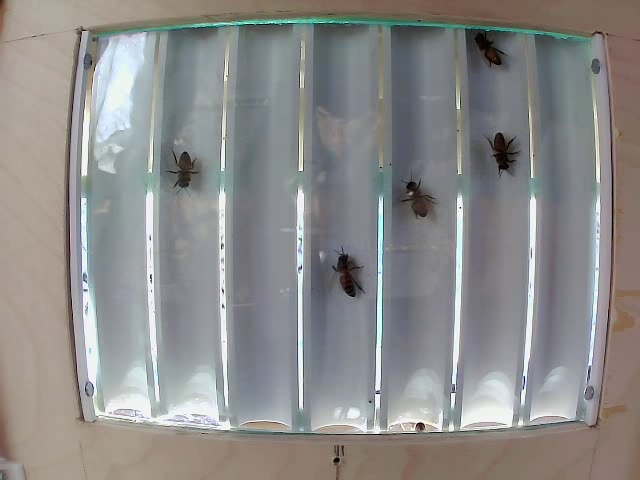bee: (391, 173, 432, 228), (325, 242, 355, 306), (166, 145, 197, 201), (488, 127, 520, 180), (474, 20, 505, 64)
